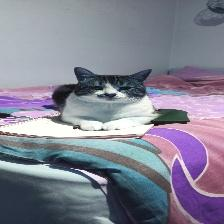kedo: (52, 66, 153, 130)
